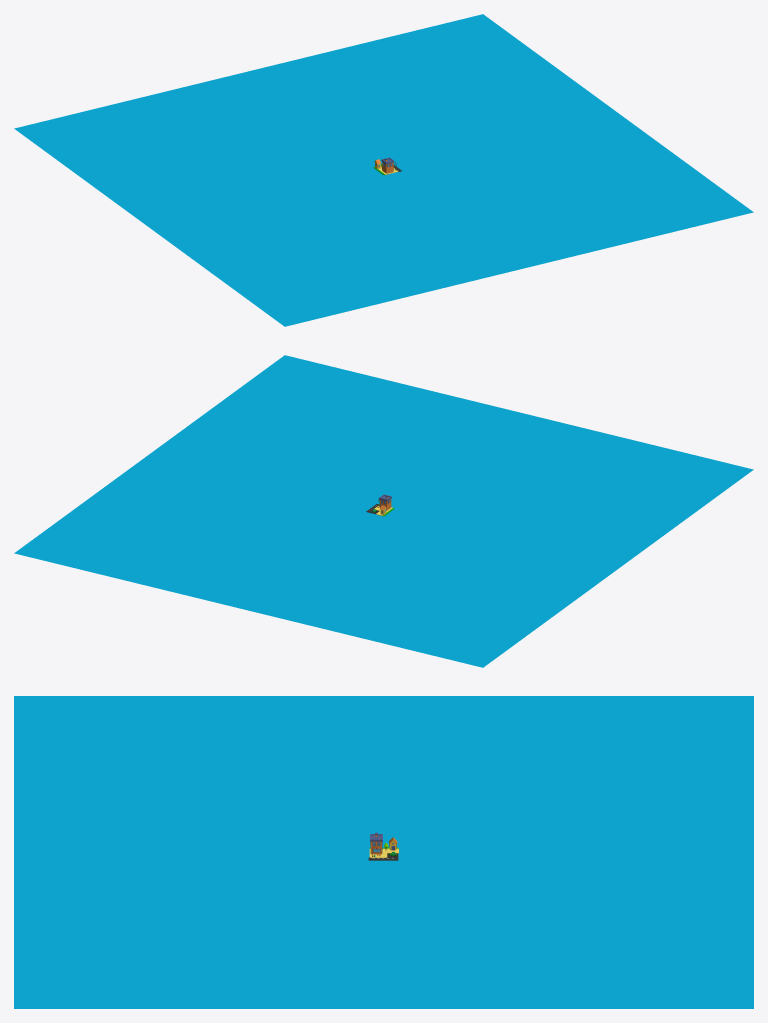
File: street_scene.glb
The picture shows the model from 3 angles, top to bottom: view 1: azimuth 30°, elevation 25°; view 2: azimuth 150°, elevation 25°; view 3: azimuth 270°, elevation 25°; orthographic projection. The views are drawn at different scales.
Parts seen in each view (by area): view 1: Floor; view 2: Floor; view 3: Floor.
Part boxes in pixels (x1=…): Floor: x1=14, y1=14, x2=753, y2=326; Floor: x1=14, y1=355, x2=753, y2=667; Floor: x1=14, y1=696, x2=753, y2=1008.
Size of the model in its own units: 366 by 10.31 by 366.
